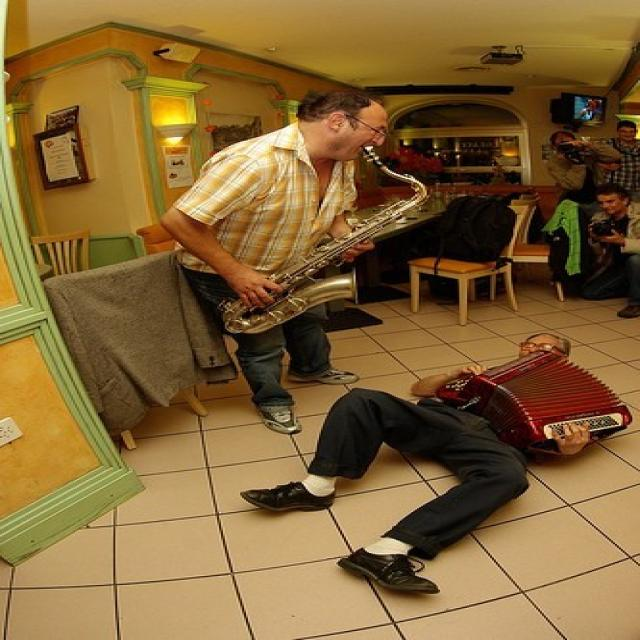saxophone: (213, 144, 434, 342)
